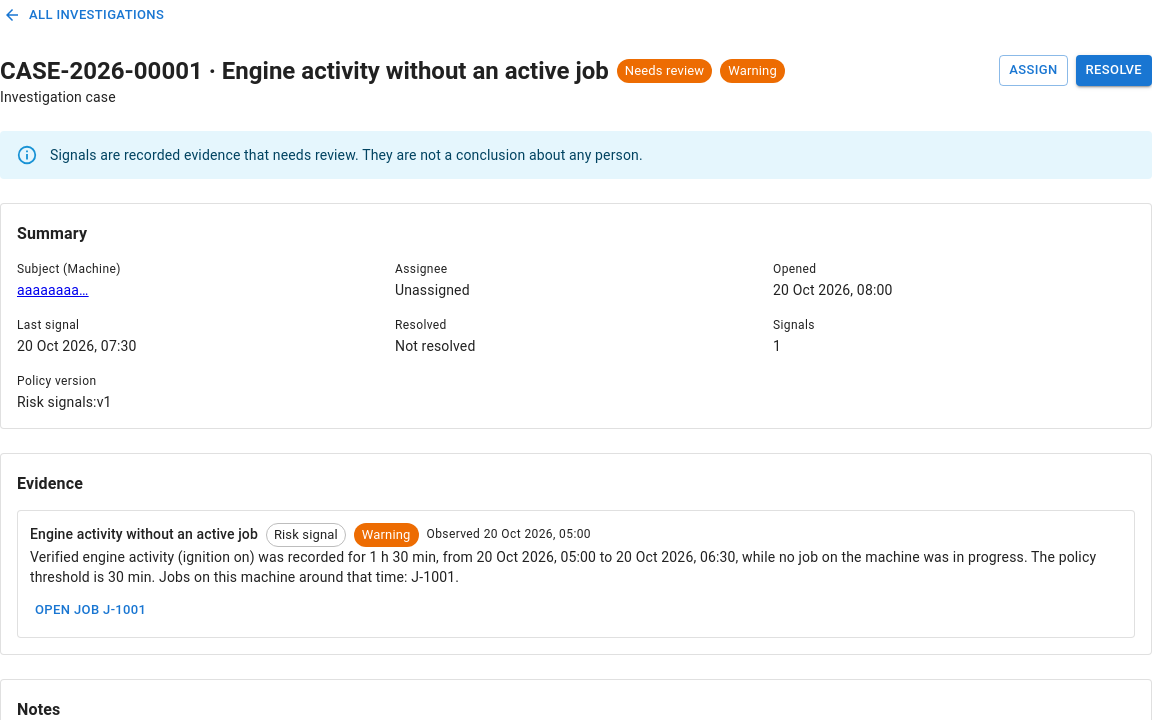
Test: CaseDetailPage › assigns the case with the version read and an idempotency key
The width and height of the screenshot is (1152, 720).
Click the button "Assign".
click(1033, 70)  # box [999,55,1068,86]
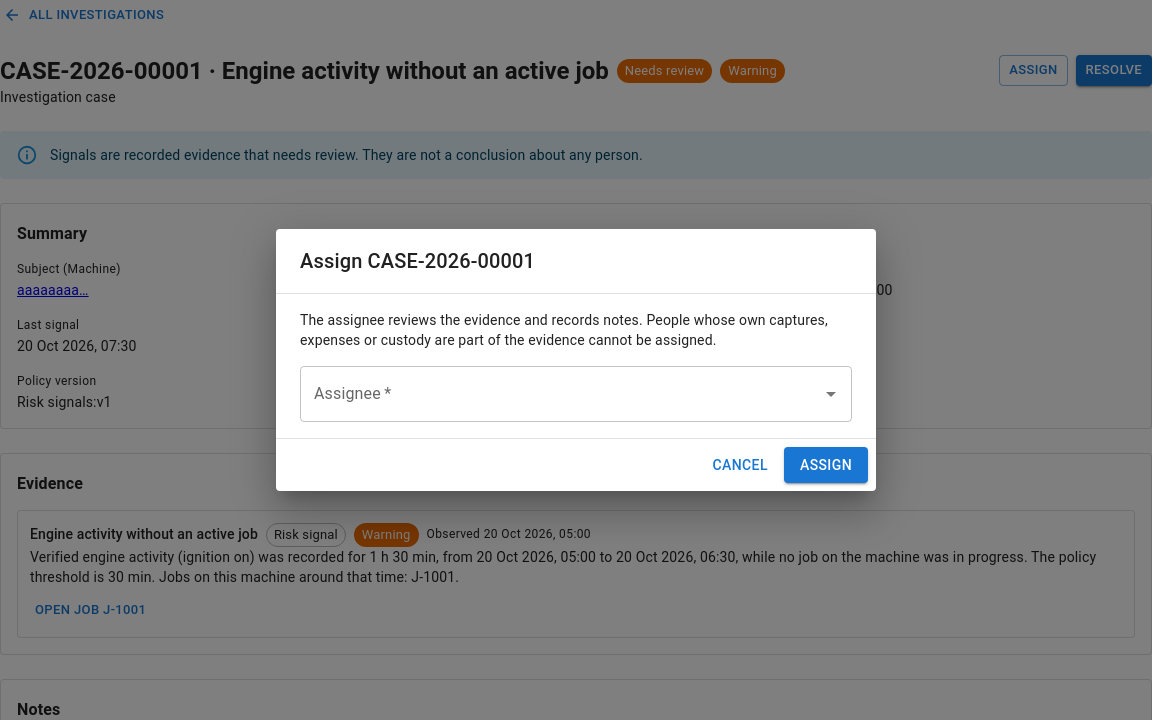
Click the dropdown labelled "Assignee *".
click(561, 394)  # box [309,375,813,413]
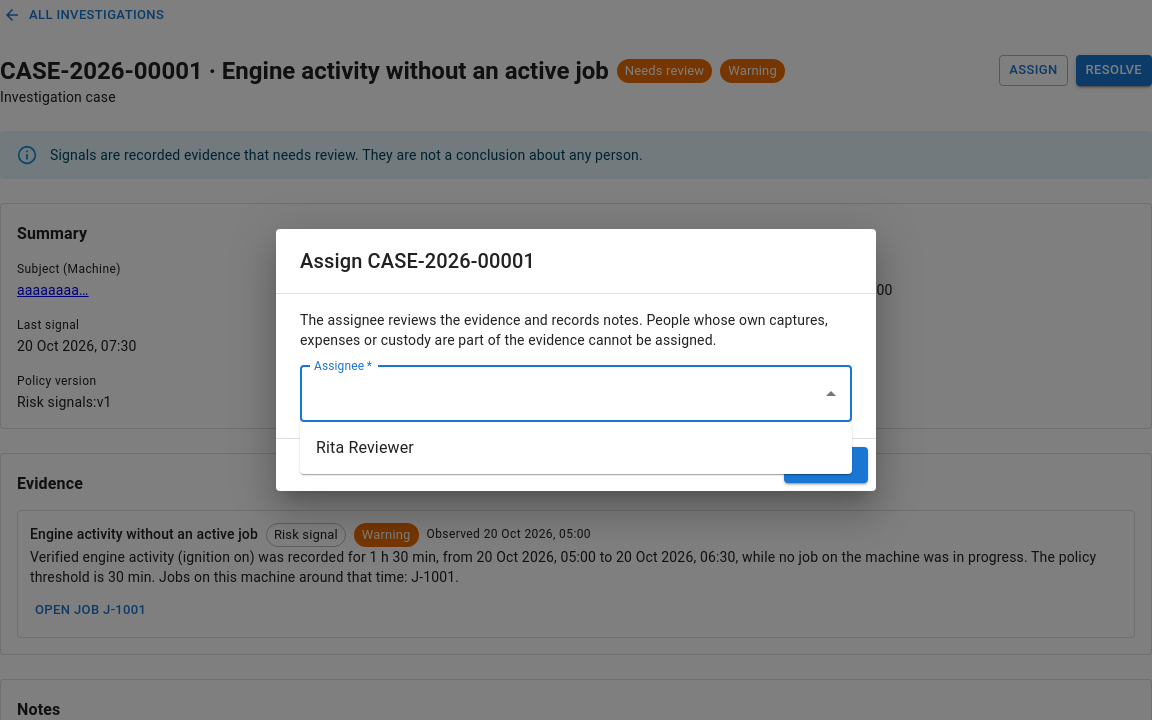
Click the option "Rita Reviewer".
click(365, 448)  # box [316,438,414,457]
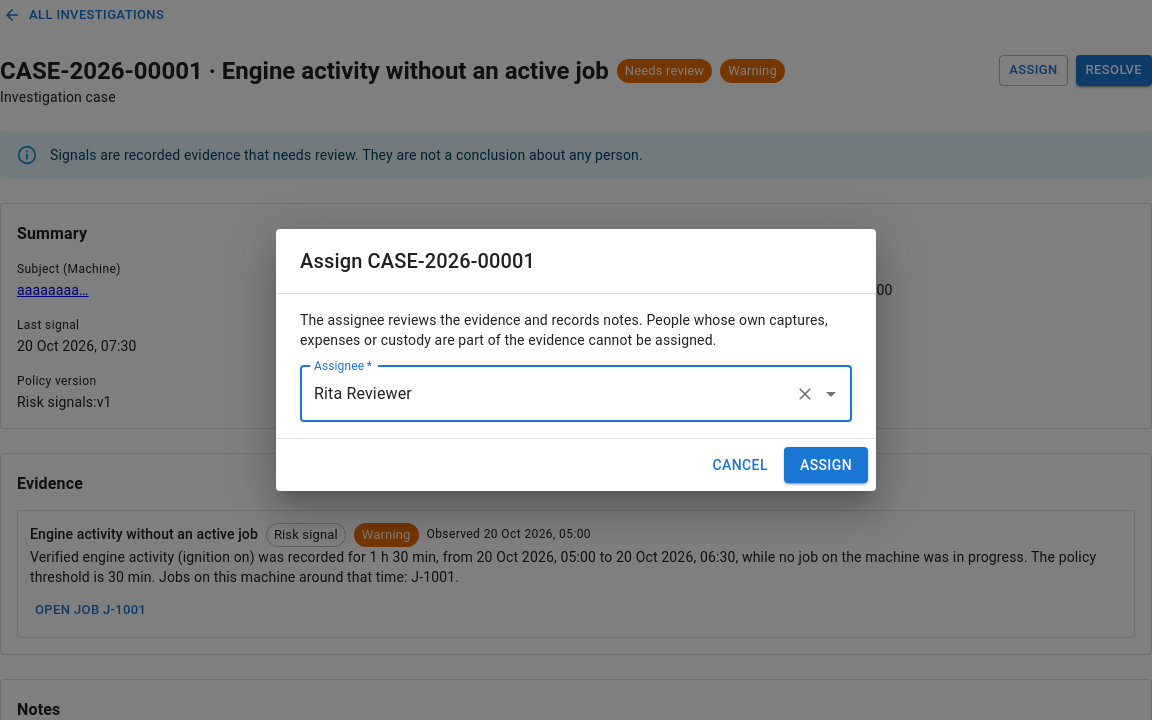
Click the button "Assign".
click(826, 465)  # box [784,447,868,483]
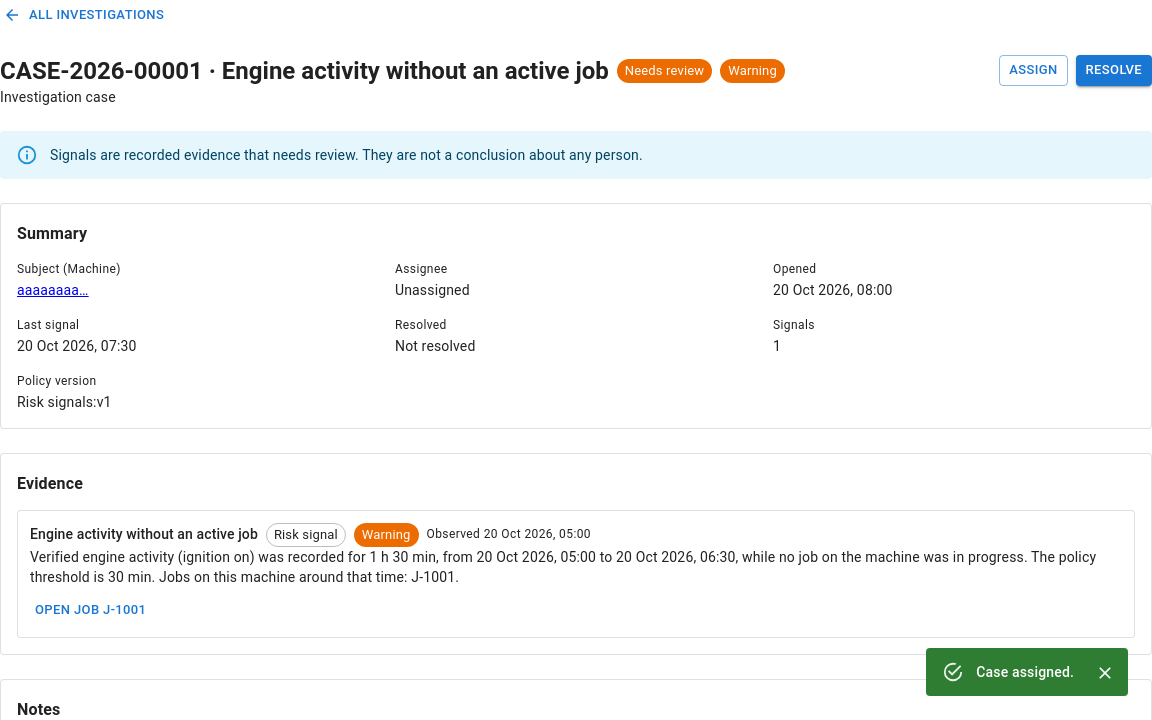
Expected: the text "Case assigned." is shown, [976,664,1074,680]
